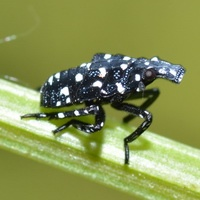insect: (21, 53, 184, 163)
